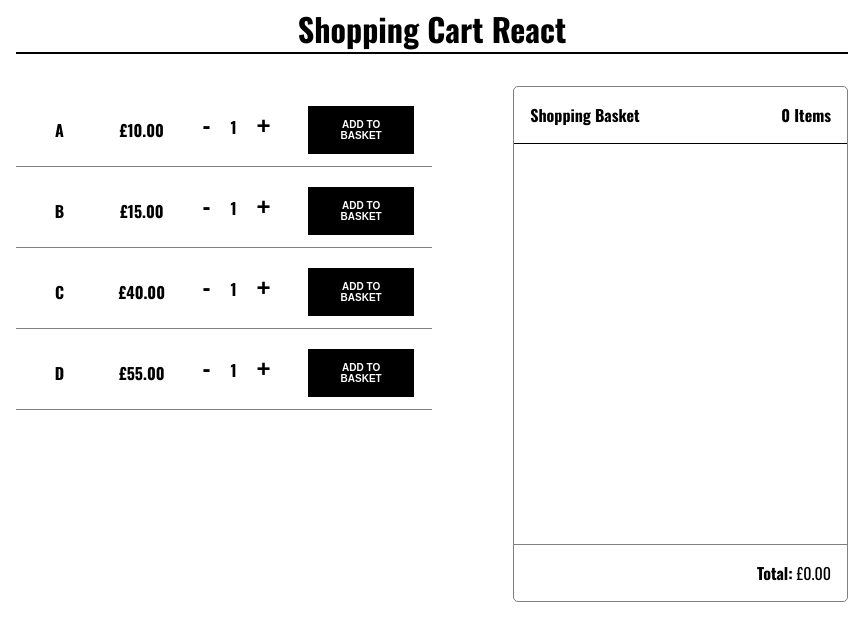
Test: App tests › should apply promotion to every multiple of 3
Click the button with test id "add-to-basket-button-product-B" at x=361, y=211, box [308,187,414,235]
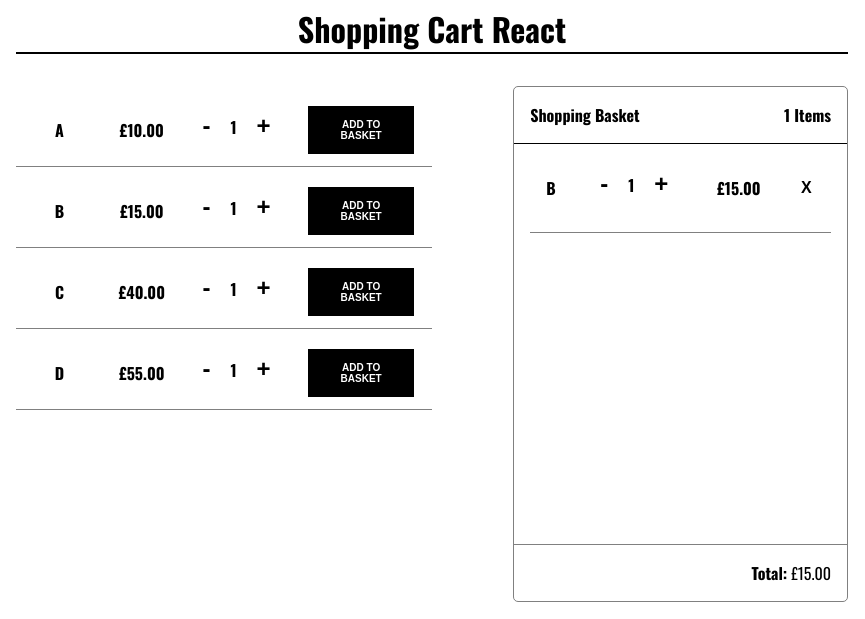
Click the button with test id "add-to-basket-button-product-B" at x=361, y=211, box [308,187,414,235]
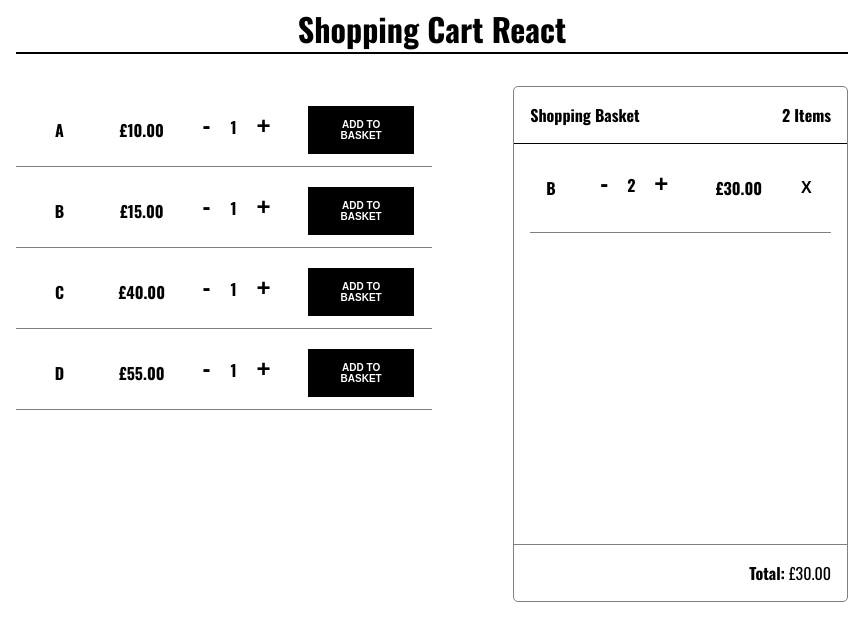
Click the button with test id "add-to-basket-button-product-B" at x=361, y=211, box [308,187,414,235]
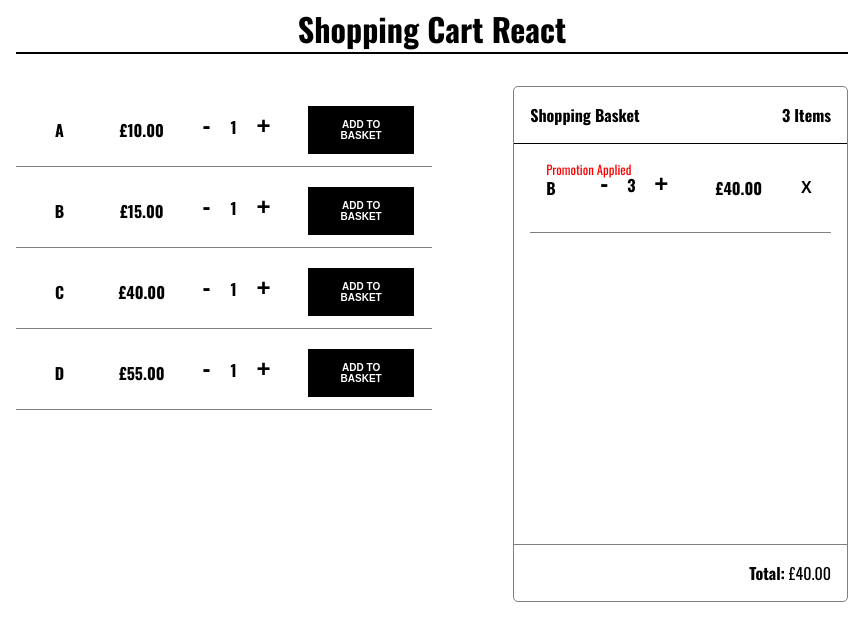
Now the element with test id "shopping-basket-total-price" reads "Total: £40.00", box [514,544,847,601]
